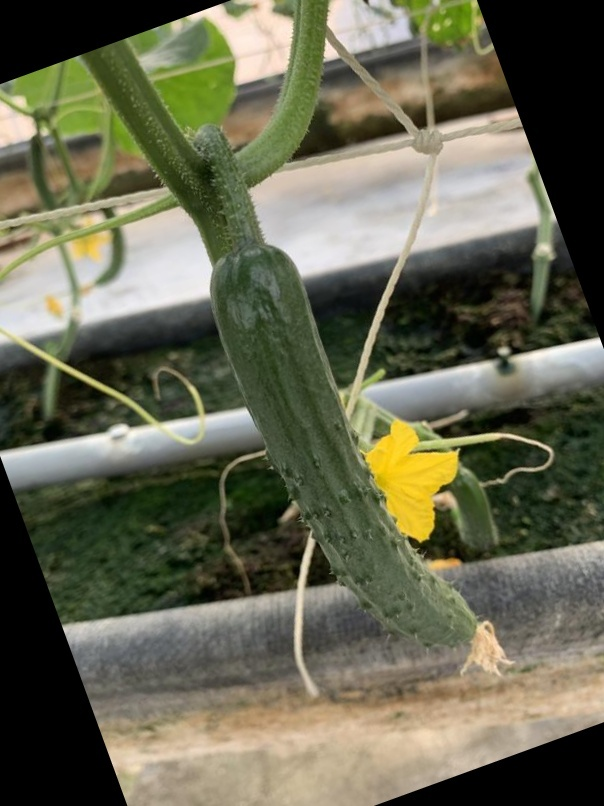mature: (189, 236, 502, 689)
